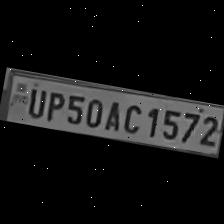0: (81, 92, 105, 128)
1: (139, 101, 162, 137)
2: (194, 109, 219, 146)
5: (61, 88, 86, 124), (157, 104, 181, 140)
7: (177, 108, 199, 143)
A: (99, 95, 124, 133)
C: (118, 98, 144, 134)
P: (42, 86, 65, 122)
U: (23, 83, 47, 118)
